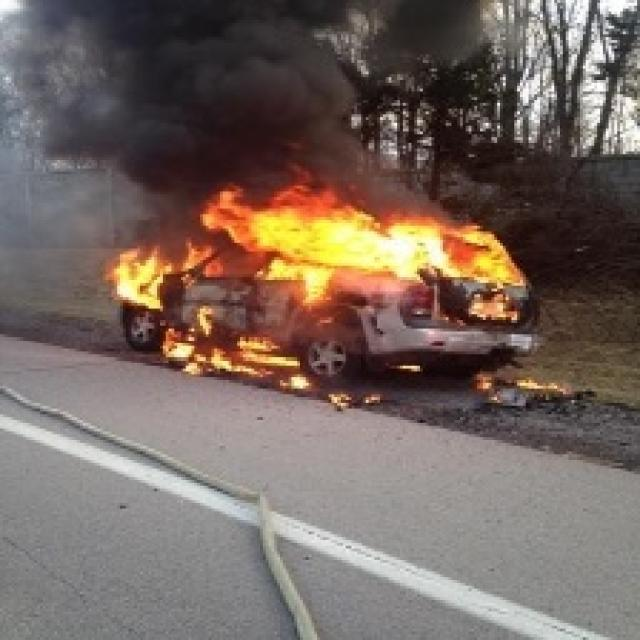Fire: (203, 182, 522, 282), (160, 320, 304, 390), (107, 236, 205, 310)
Smoke: (0, 0, 476, 180)
